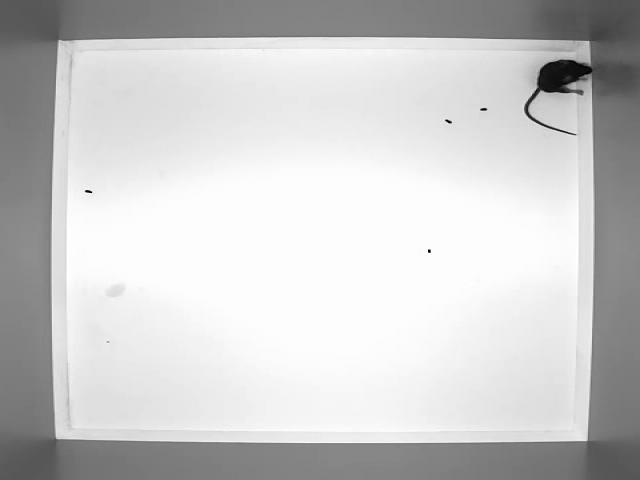Tikus: (523, 58, 596, 137)
